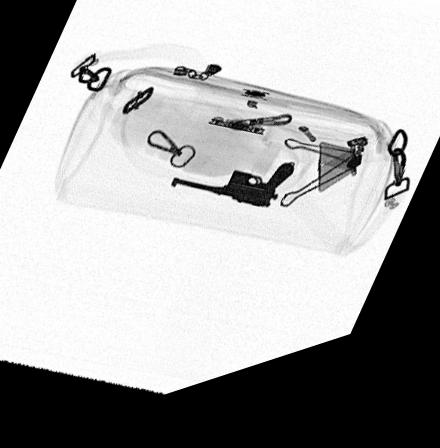Gun: (170, 179, 297, 225)
